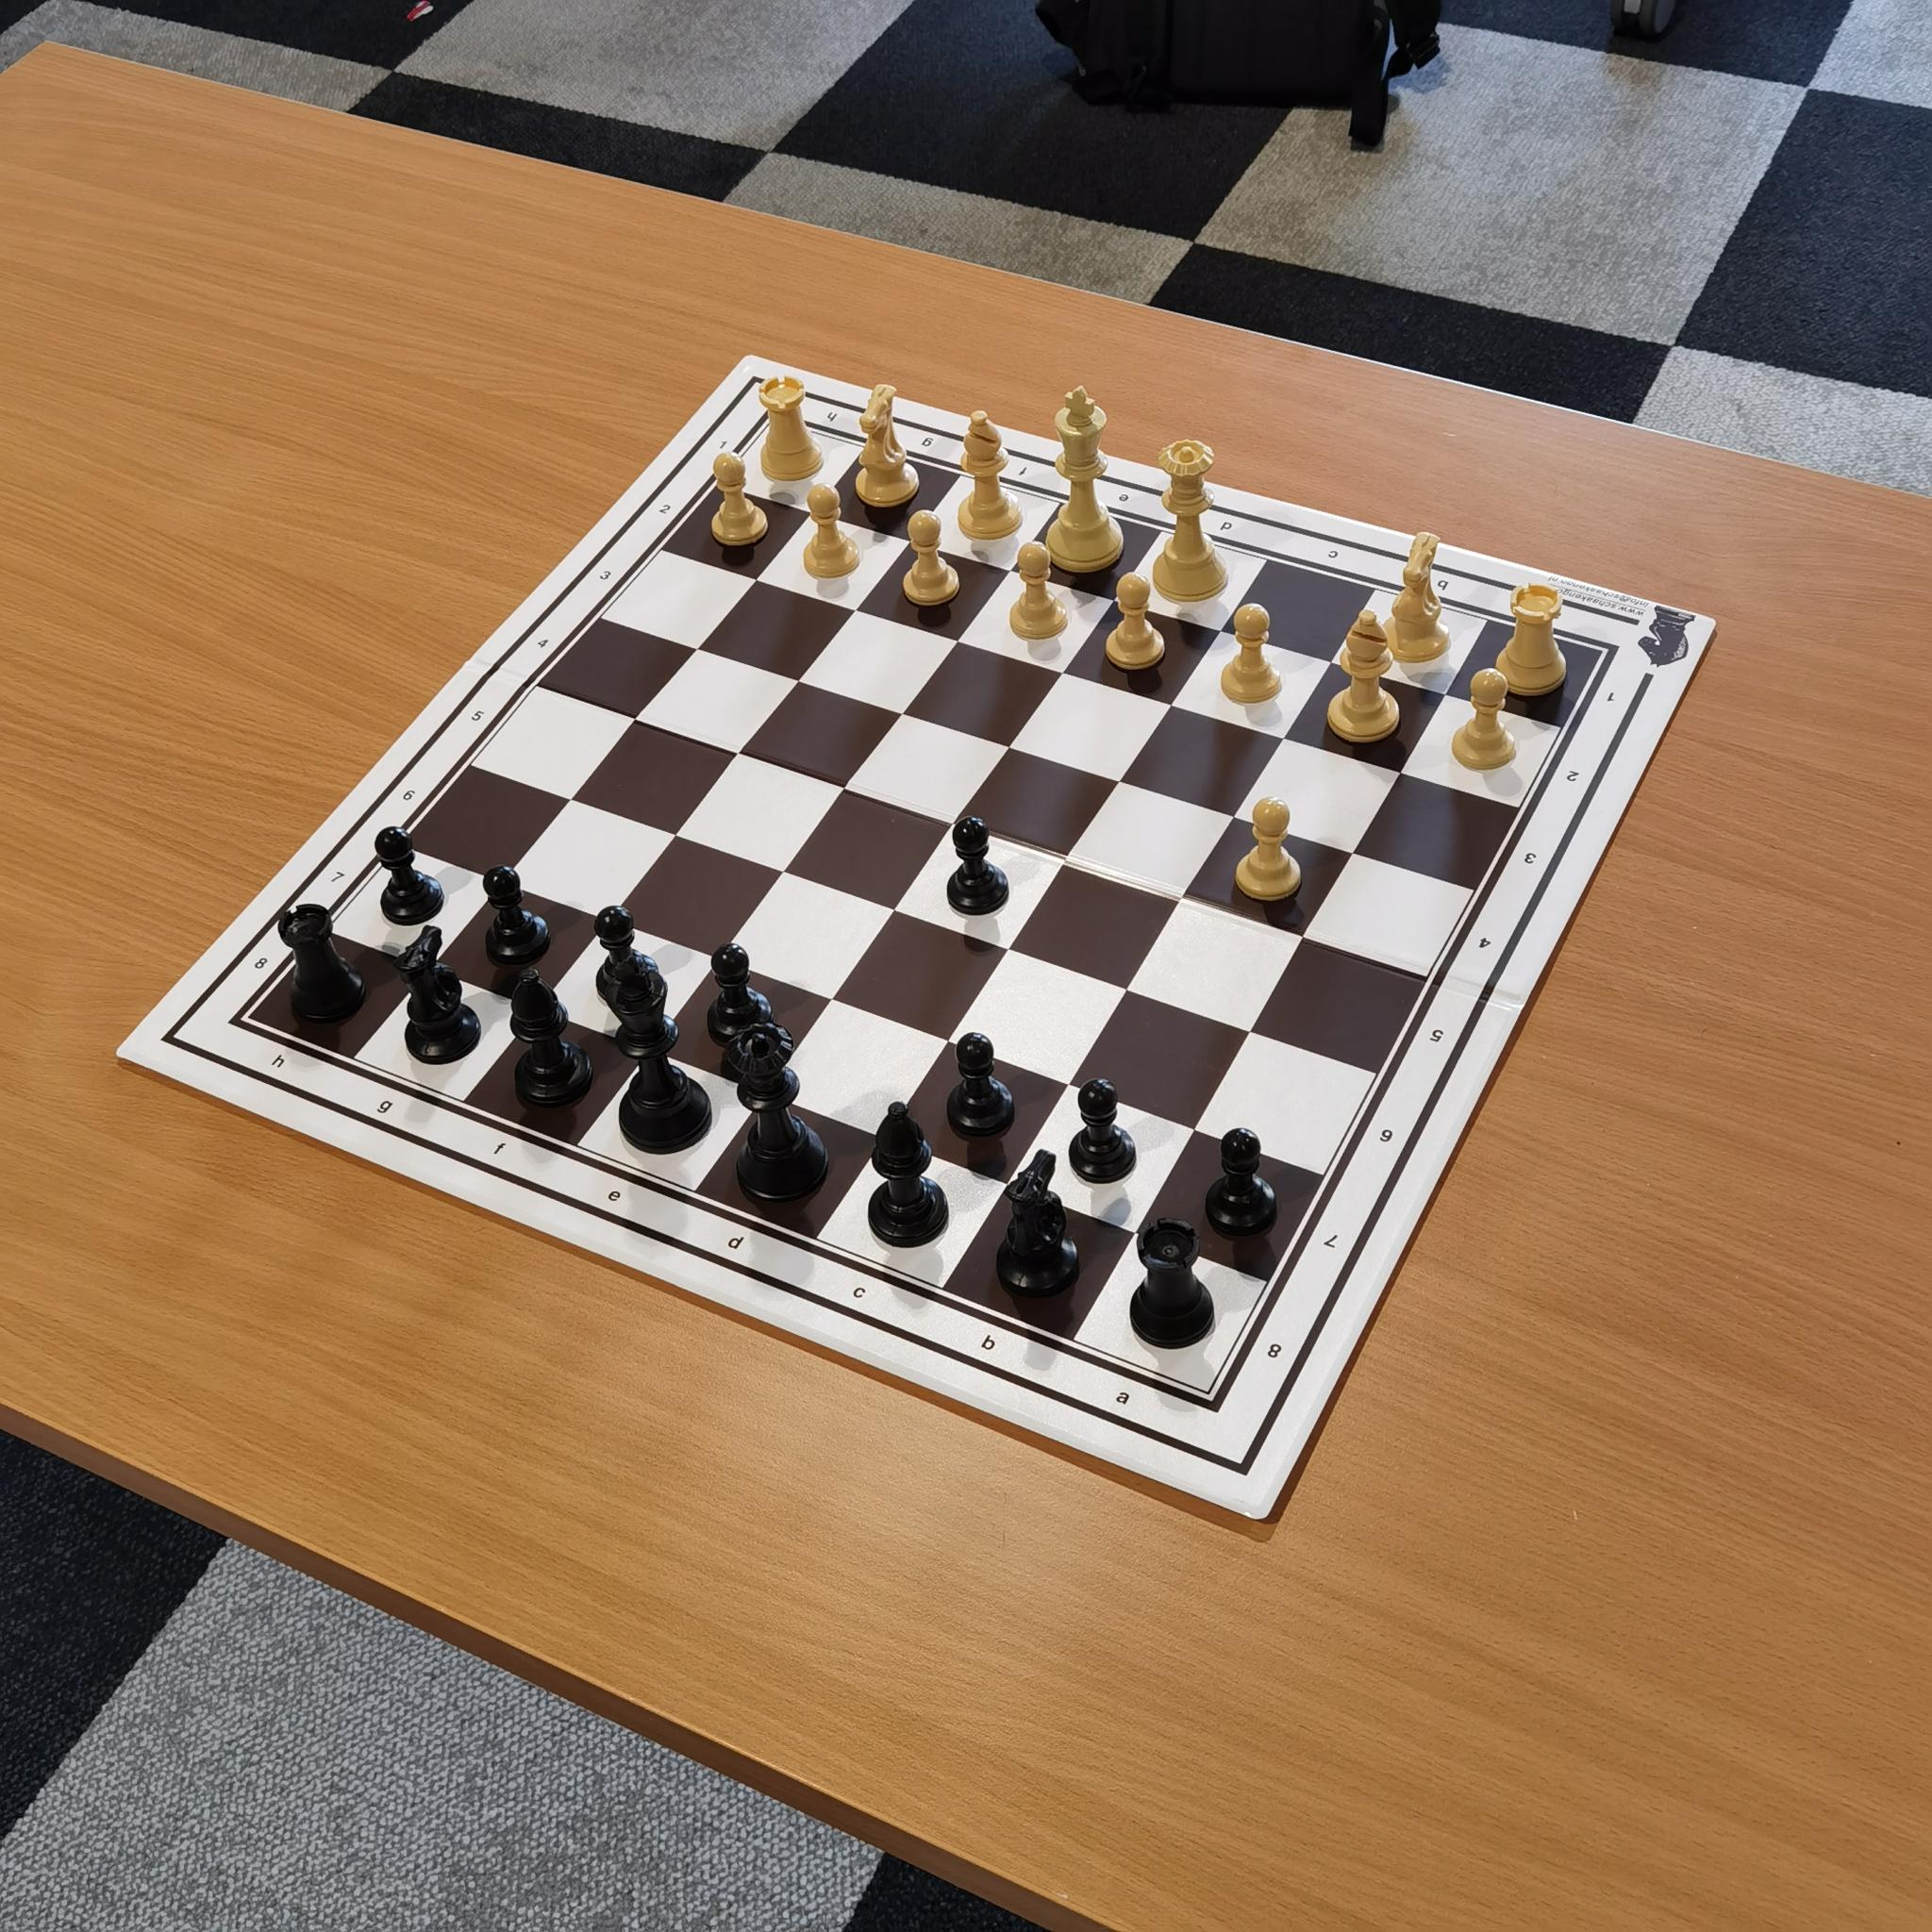corners: (1184, 1378, 1237, 1431), (212, 1005, 262, 1044), (1583, 637, 1631, 676)
eight: (1247, 1322, 1299, 1378), (242, 939, 276, 984)
one: (1592, 679, 1628, 717), (704, 426, 738, 462)
